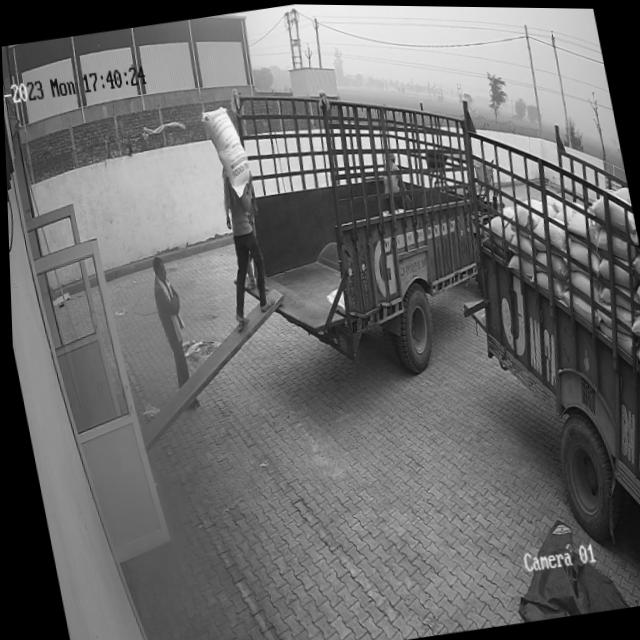sack: (199, 104, 253, 201)
